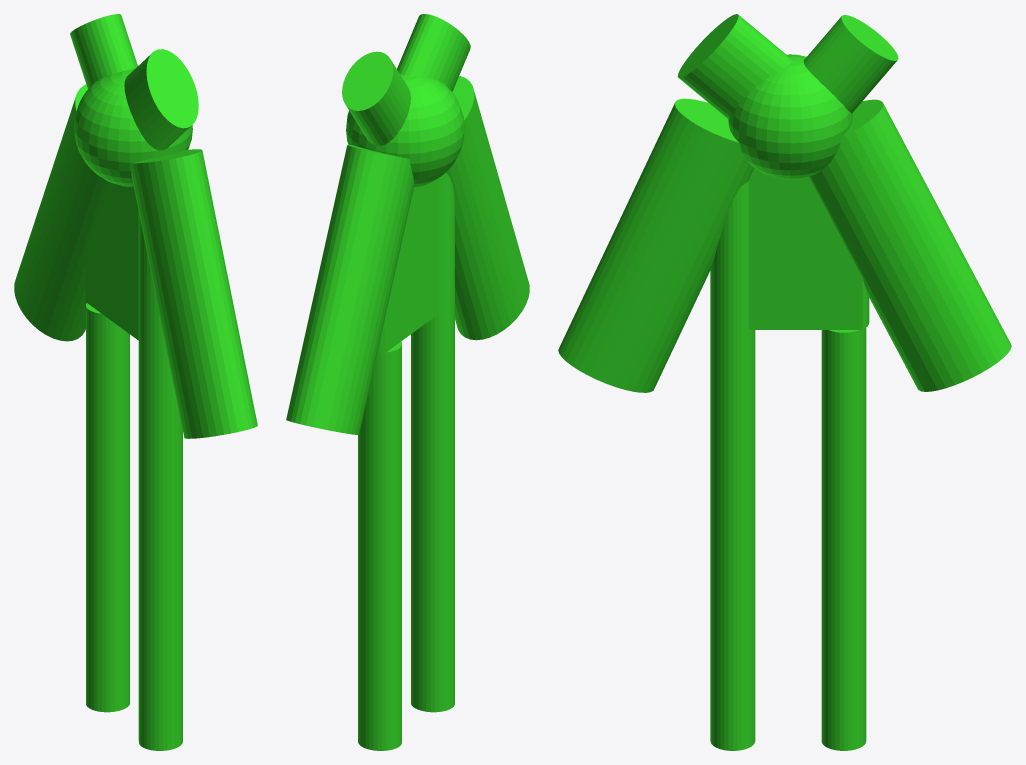
The model's file is alien.glb.
3 renders of one model, left to right at view 1: azimuth 30°, elevation 25°; view 2: azimuth 150°, elevation 25°; view 3: azimuth 270°, elevation 25°, orthographic. The views are drawn at different scales.
Parts seen in each view (by area): view 1: Alien; view 2: Alien; view 3: Alien.
Part boxes in pixels (x1=…): Alien: x1=14, y1=14, x2=257, y2=750; Alien: x1=286, y1=14, x2=529, y2=750; Alien: x1=558, y1=14, x2=1011, y2=750.
Size of the model in its own units: 1.13 by 7.22 by 4.09.
